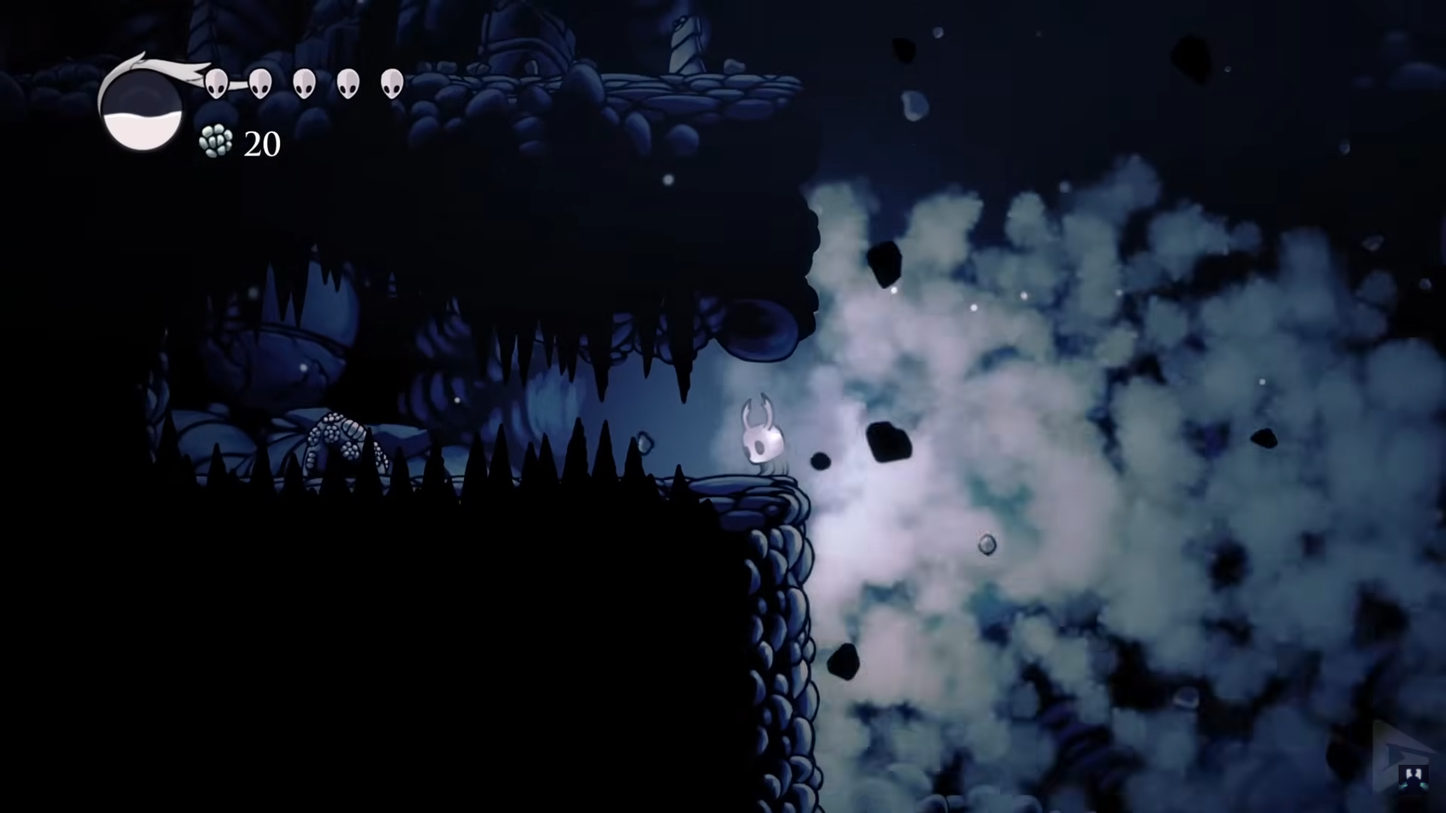HK: (736, 391, 793, 483)
